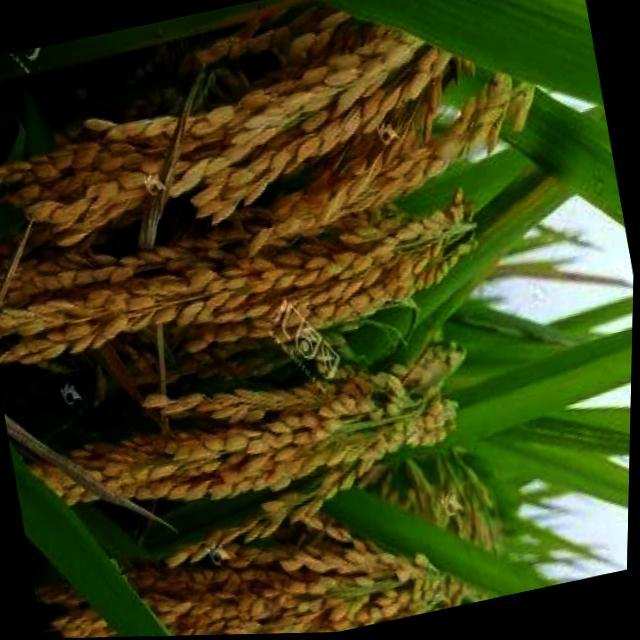Padi: (18, 24, 546, 214), (30, 518, 536, 630), (4, 232, 520, 334), (22, 380, 524, 466)
